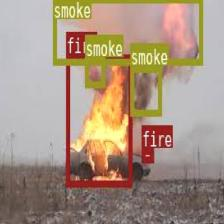fire: (66, 53, 132, 186), (141, 147, 153, 161)
smoke: (53, 0, 202, 64), (130, 64, 160, 114), (84, 57, 105, 87)
